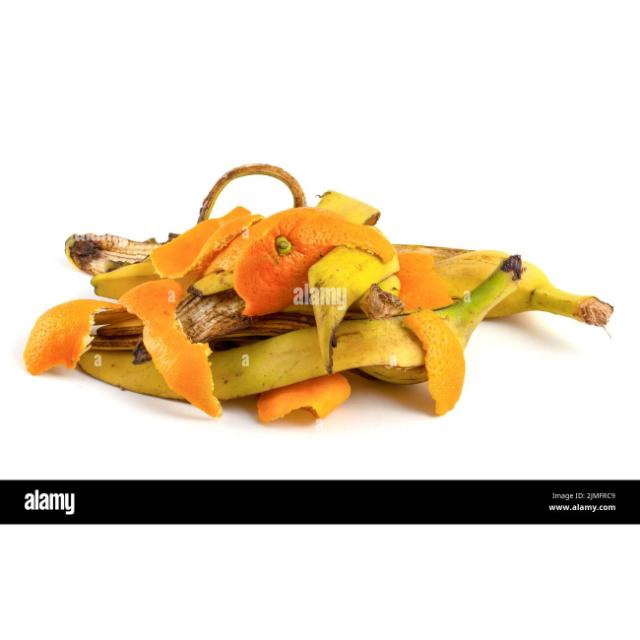organic: (23, 165, 613, 427)
